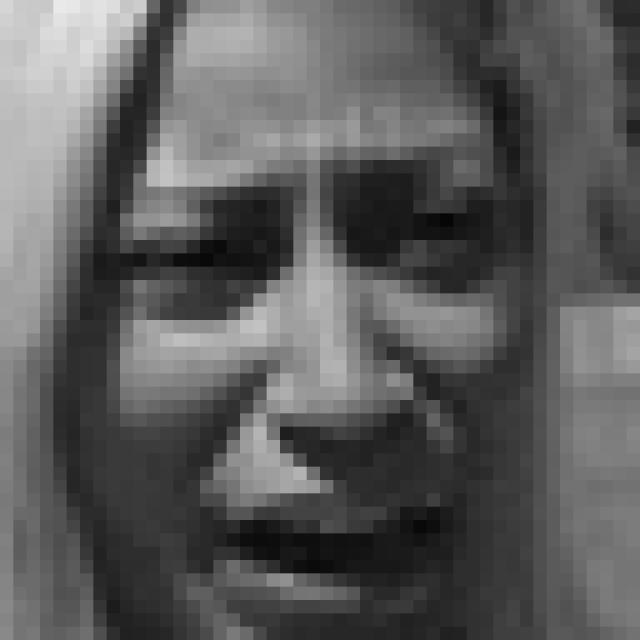sad: (103, 132, 512, 633)
